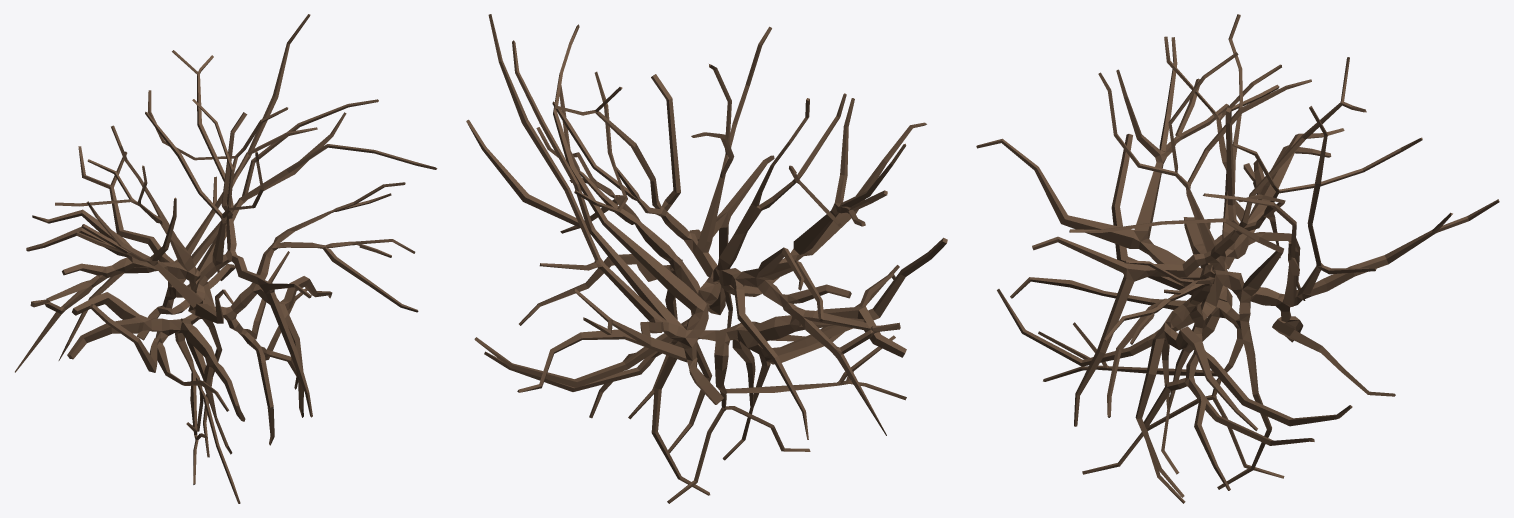
The model's file is x_Tumbleweed.fbx.
3 views of the same model, side by side, from view 1: azimuth 30°, elevation 25°; view 2: azimuth 150°, elevation 25°; view 3: azimuth 270°, elevation 25° (orthographic). The views are drawn at different scales.
Visible parts, largest first — view 1: t_Tumbleweed_baked; view 2: t_Tumbleweed_baked; view 3: t_Tumbleweed_baked.
Boxes of the visible parts, box(x1,y1,x2,y2) form: t_Tumbleweed_baked: box(15, 14, 437, 503); t_Tumbleweed_baked: box(466, 14, 947, 503); t_Tumbleweed_baked: box(976, 14, 1499, 503).
Bounding box in the file's own units: 1.05 × 1.14 × 1.16.
